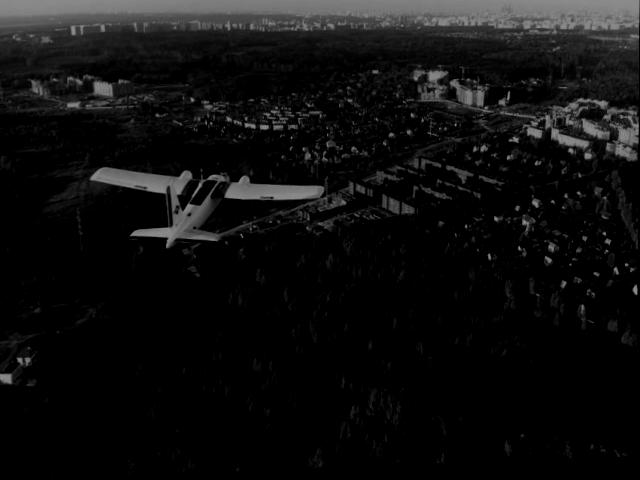hedef: (71, 154, 324, 267)
